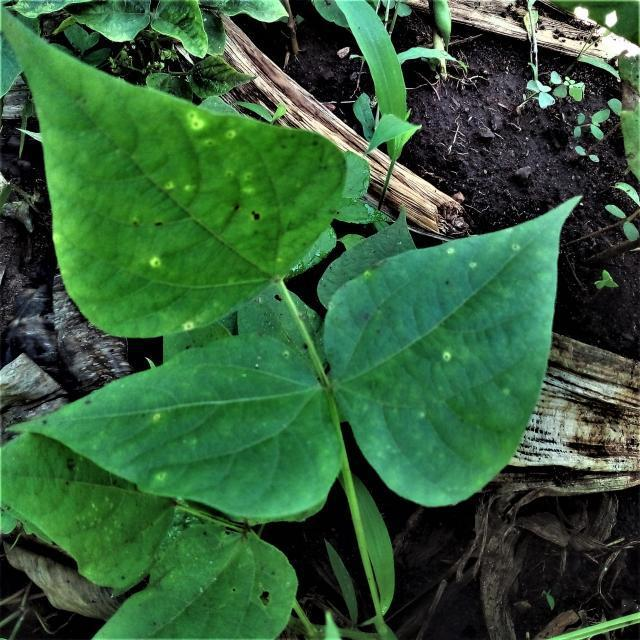sehat: (45, 103, 288, 283), (140, 369, 342, 479), (375, 294, 507, 412)
